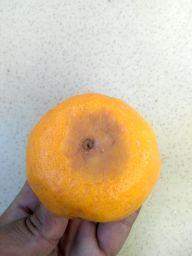Unripe: (29, 93, 158, 221)
